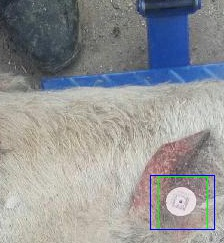text: (158, 176, 207, 229)
